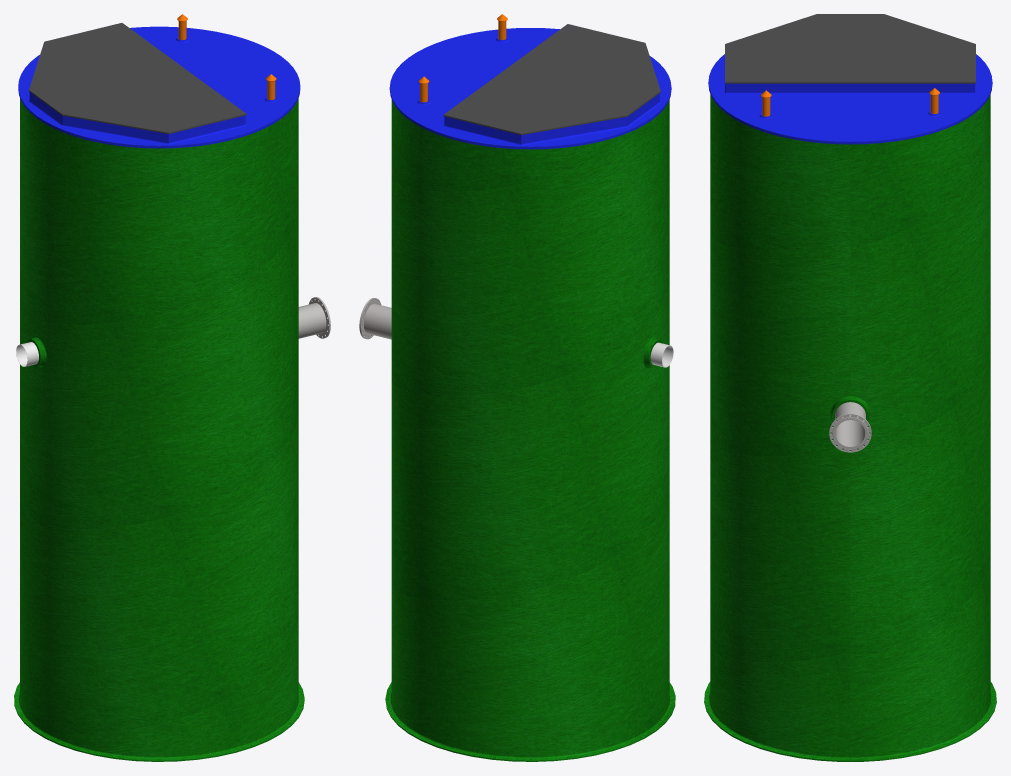
File: ECOWARD-KHC_1650_3_3800_9500.glb
3 views of the same model, side by side, from view 1: azimuth 30°, elevation 25°; view 2: azimuth 150°, elevation 25°; view 3: azimuth 270°, elevation 25° (orthographic).
Parts seen in each view (by area): view 1: Твердое тело1 (×3), Solid1; view 2: Твердое тело1 (×3), Solid1; view 3: Твердое тело1 (×3), Solid1 (×2).
Part boxes in pixels (left/top/right/bottom): Твердое тело1 (×3): left=14, top=23, right=304, bottom=761; Solid1: left=298, top=303, right=326, bottom=338; Твердое тело1 (×3): left=385, top=24, right=675, bottom=761; Solid1: left=364, top=303, right=391, bottom=339; Твердое тело1 (×3): left=704, top=14, right=996, bottom=761; Solid1 (×2): left=829, top=402, right=871, bottom=452.
Bounding box in the file's own units: 4.74 × 9.71 × 4.
Materials: 17 (1 with a texture image).
